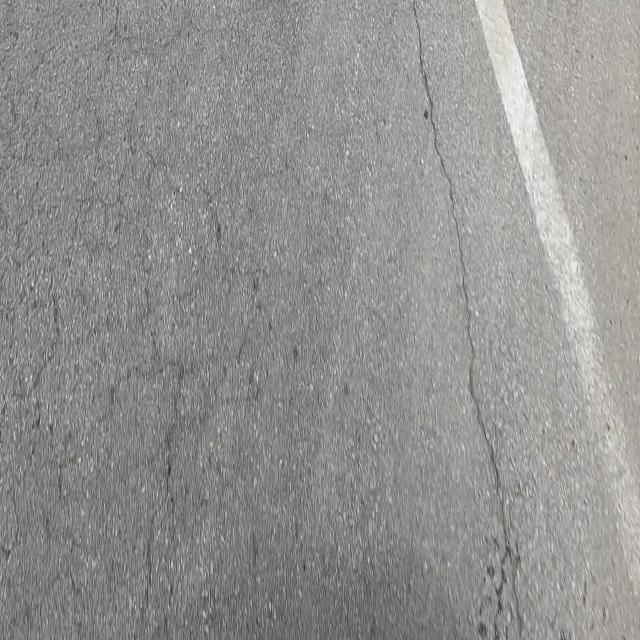Retak-Memanjang: (412, 3, 526, 640)
